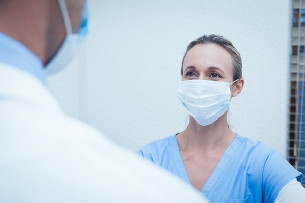Mask: (176, 59, 240, 123)
